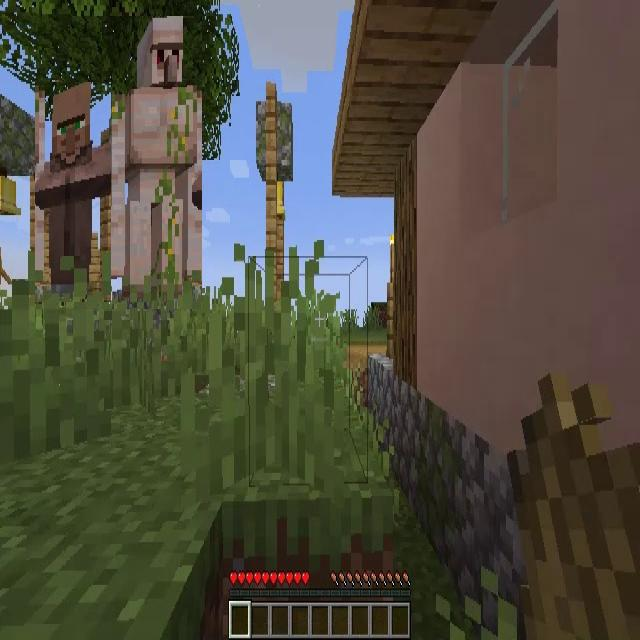people: (102, 16, 202, 309), (35, 82, 111, 302)
